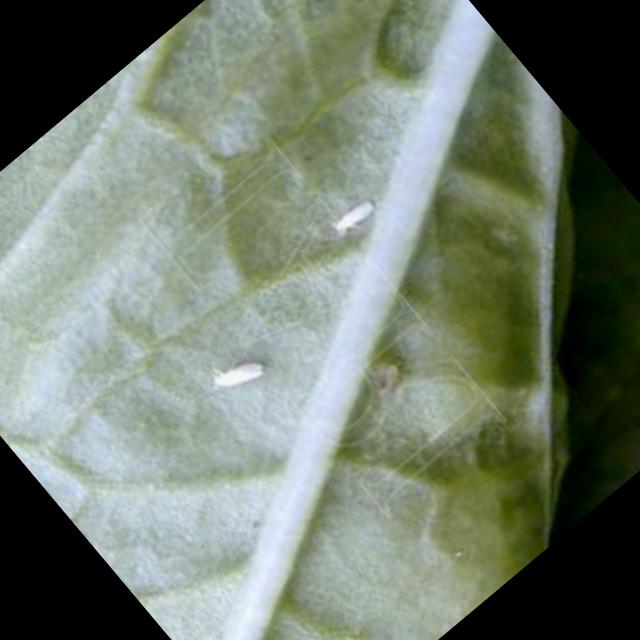Silverleaf whitefly: (186, 322, 280, 416), (318, 178, 392, 250)
